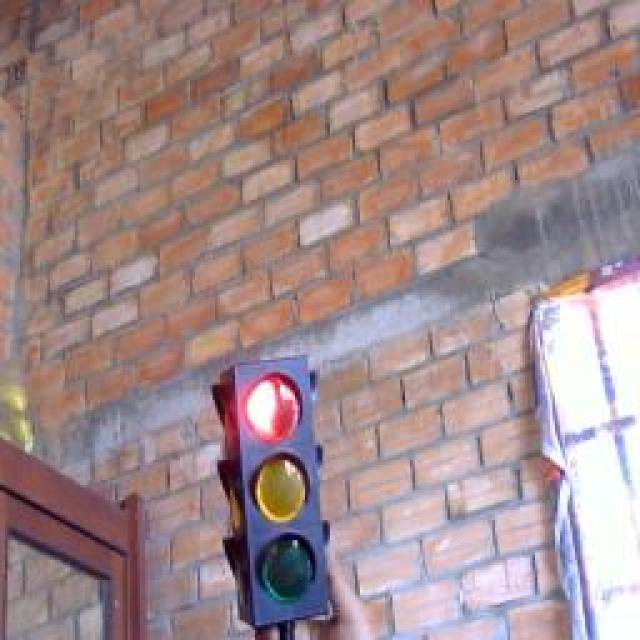-: (239, 364, 311, 449)
